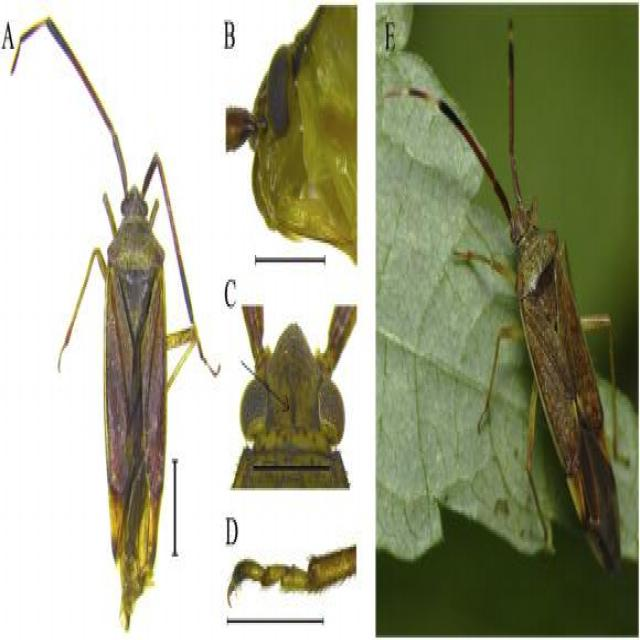Miridae-Adult-: (425, 20, 627, 578)
